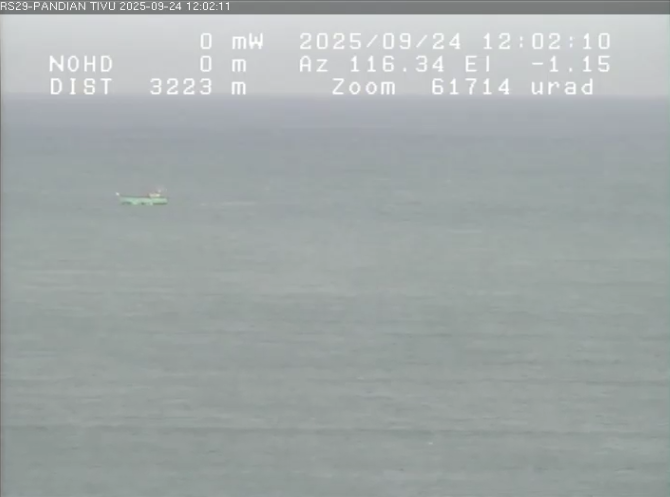FISHING_BOAT: (86, 166, 199, 231)
